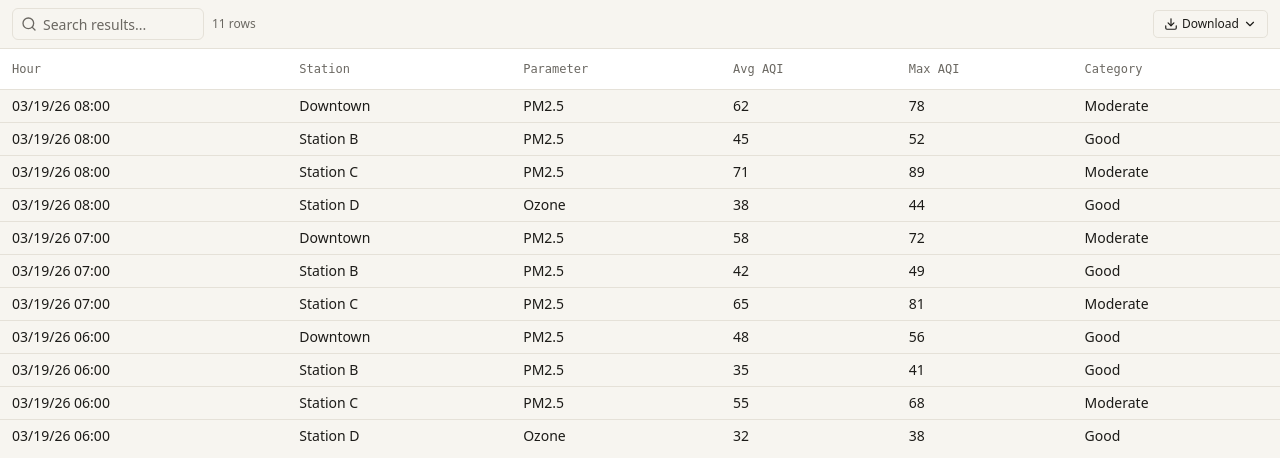
it: QueryResultTable › offers the download menu to a user who is not denied export
Click the button "Download".
click(1210, 24)  # box 1153,10 -> 1268,38
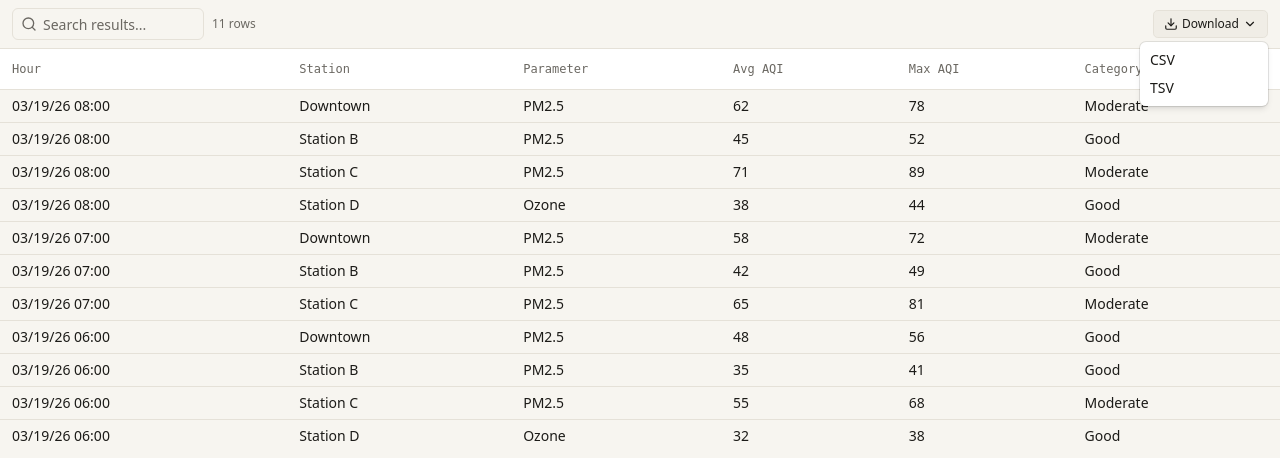
Expected: the menu item "CSV" is shown, 1150,50 -> 1175,69
Expected: the menu item "TSV" is shown, 1150,78 -> 1174,97
